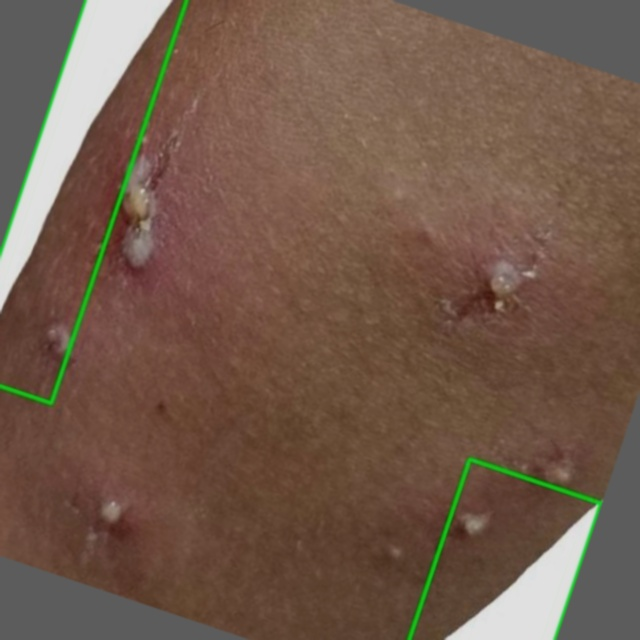Scabies: (0, 0, 186, 403), (409, 460, 600, 639)
